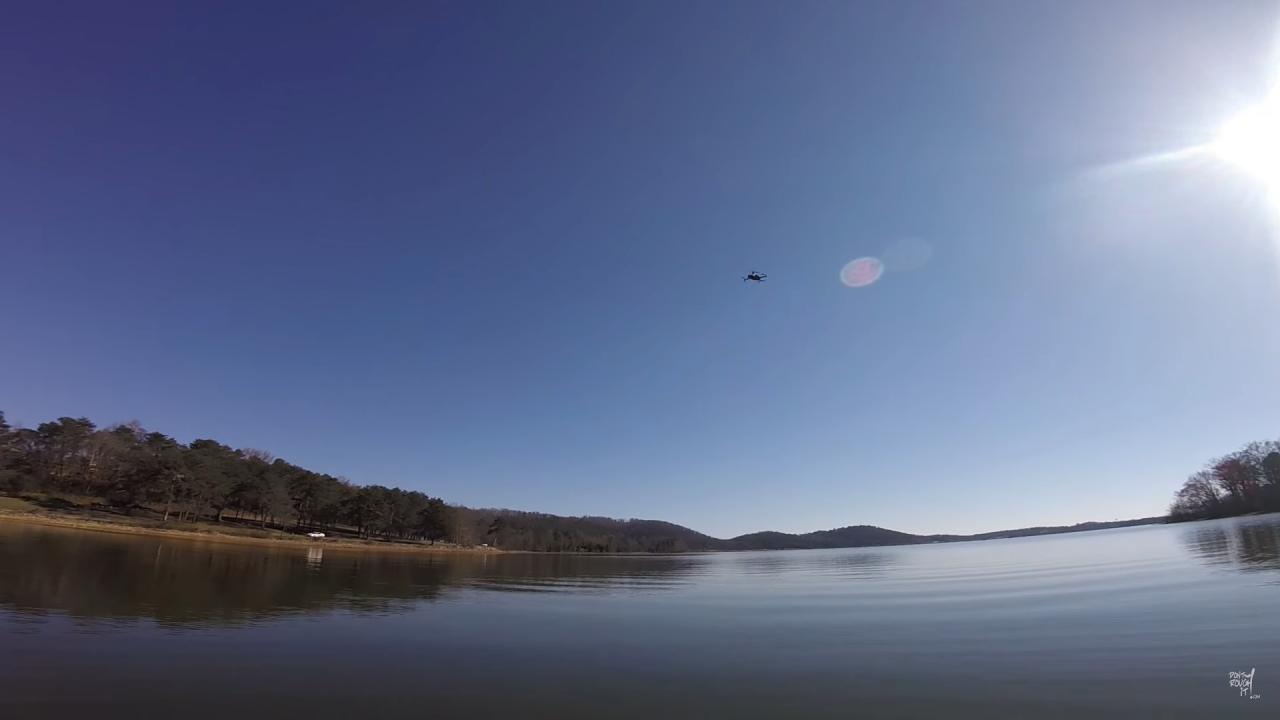Drone: (732, 259, 779, 294)
